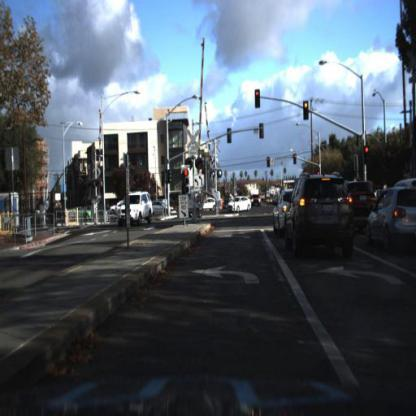car: (281, 169, 360, 263), (370, 175, 416, 259), (369, 185, 416, 252), (115, 191, 154, 230), (117, 190, 153, 231), (350, 174, 369, 237), (273, 191, 286, 236), (181, 197, 204, 220), (151, 199, 174, 221), (228, 197, 253, 215), (200, 194, 222, 213), (179, 200, 199, 220), (153, 200, 170, 217), (250, 191, 264, 210), (110, 200, 124, 216), (252, 195, 261, 209)
pedestrian: (411, 197, 416, 230)
trafficLight-Red: (181, 164, 193, 199), (180, 168, 188, 195), (364, 142, 372, 164), (265, 154, 273, 175), (304, 99, 312, 120), (302, 102, 310, 120), (364, 145, 371, 163), (293, 152, 300, 169), (255, 89, 261, 107), (293, 150, 299, 167), (268, 151, 274, 167)
trafficLight-RedLeft: (255, 88, 263, 110)
